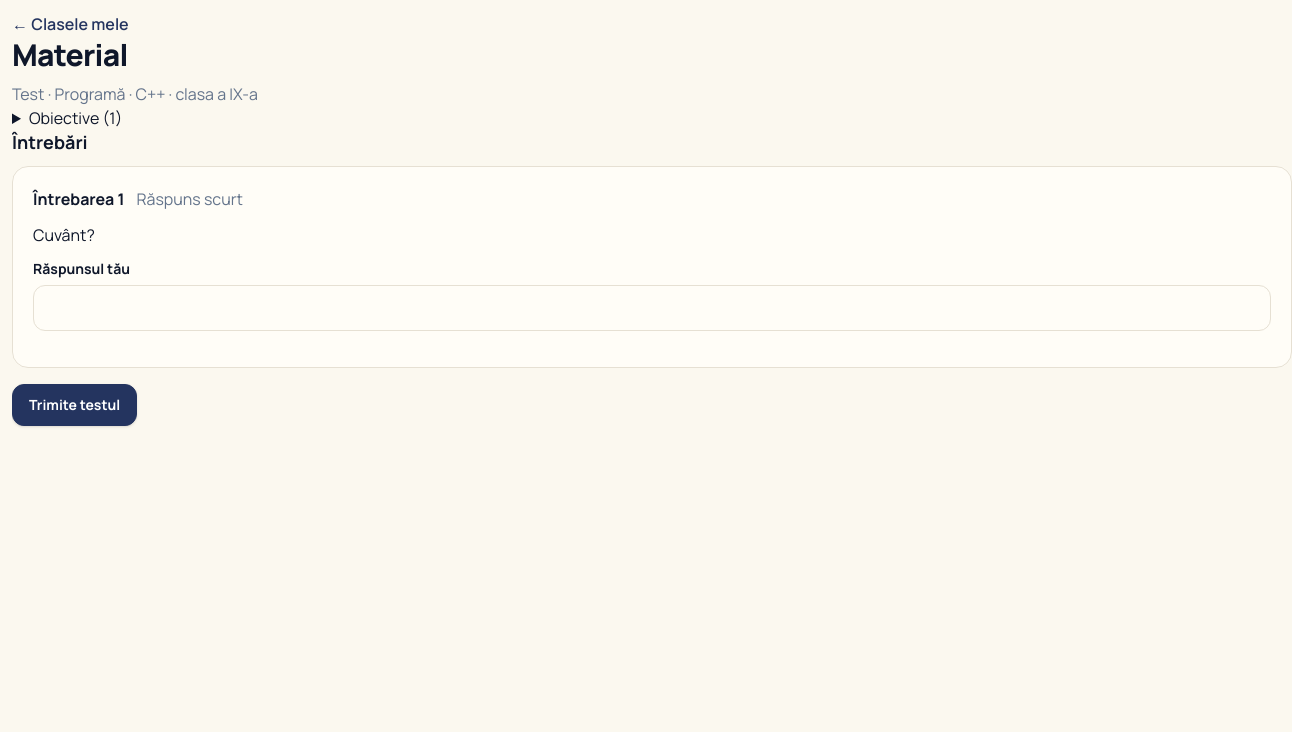
Test: StudentMaterialPage (test, problem, exercise) › does not mark anything completed when the attempt itself fails
Type "for" into the field labelled "Răspunsul tău".
click(652, 308); type("for")  # box [33,285,1271,331]
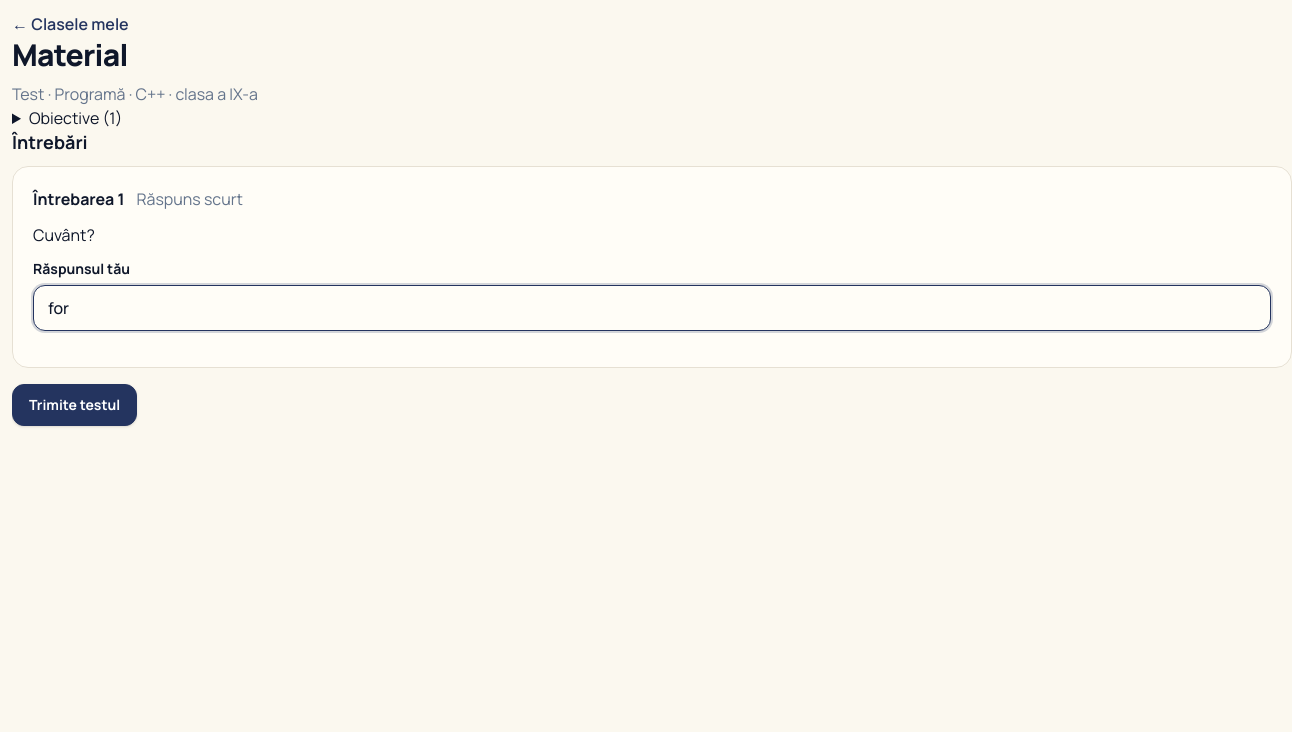
Click the button "Trimite testul".
click(75, 405)  # box [12,384,137,426]
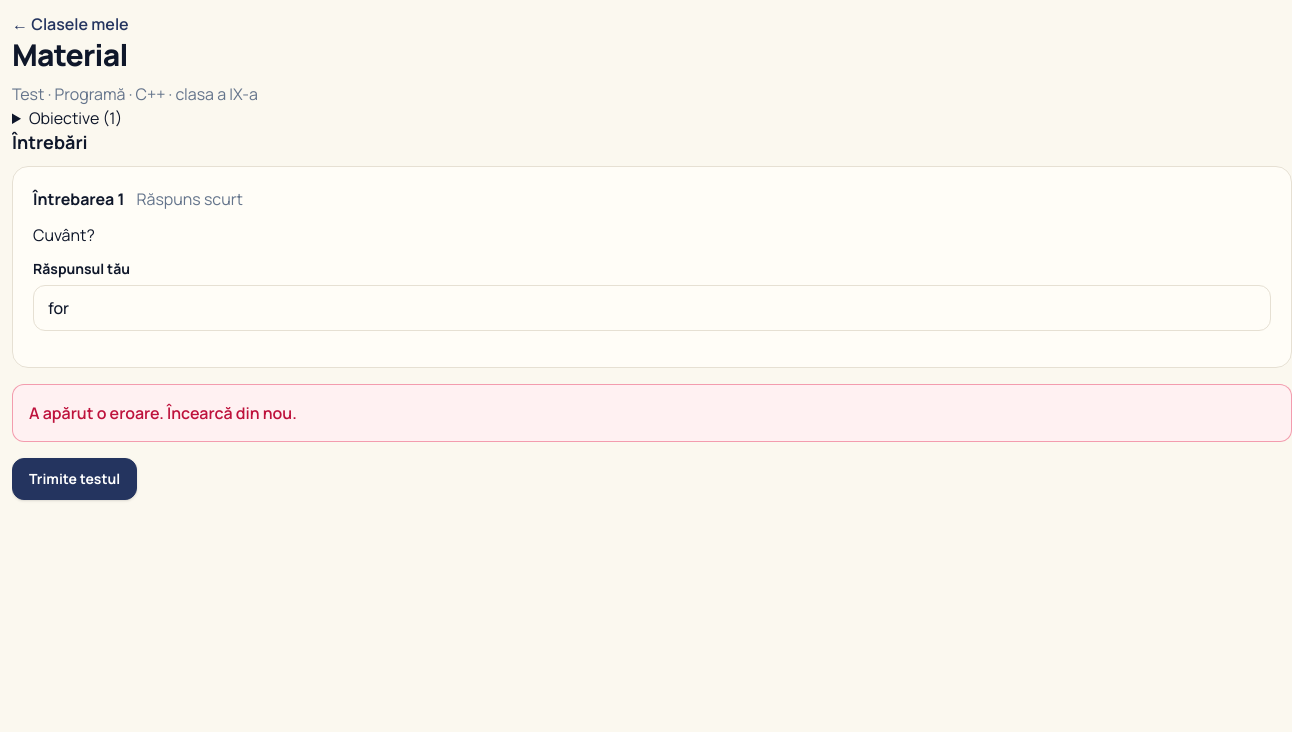
Result: the message "A apărut o eroare. Încearcă din nou." is shown at [12,384,1291,442]
